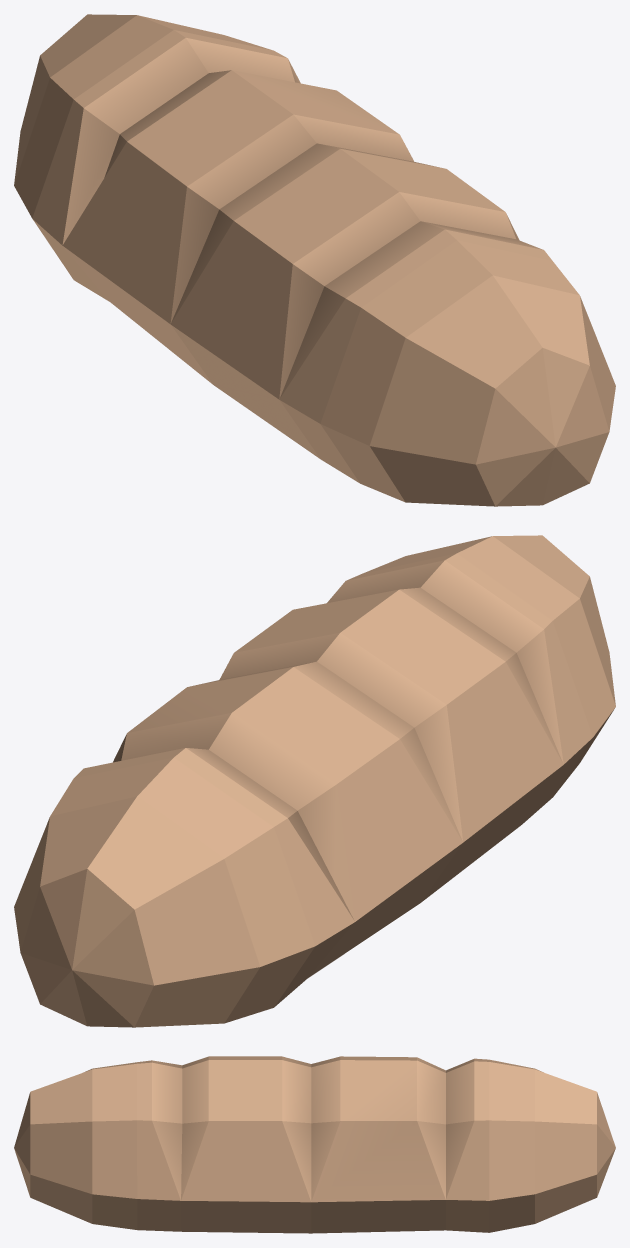
File: Baguette.fbx
3 views of the same model, one above another, from view 1: azimuth 30°, elevation 25°; view 2: azimuth 150°, elevation 25°; view 3: azimuth 270°, elevation 25° (orthographic). The views are drawn at different scales.
Visible parts, largest first — view 1: Cylinder; view 2: Cylinder; view 3: Cylinder.
Boxes of the visible parts, x1,y1,x2,y2 form: Cylinder: (14, 14, 615, 506); Cylinder: (14, 535, 615, 1027); Cylinder: (14, 1056, 615, 1233).
Size of the model in its own units: 194 by 155 by 556.
